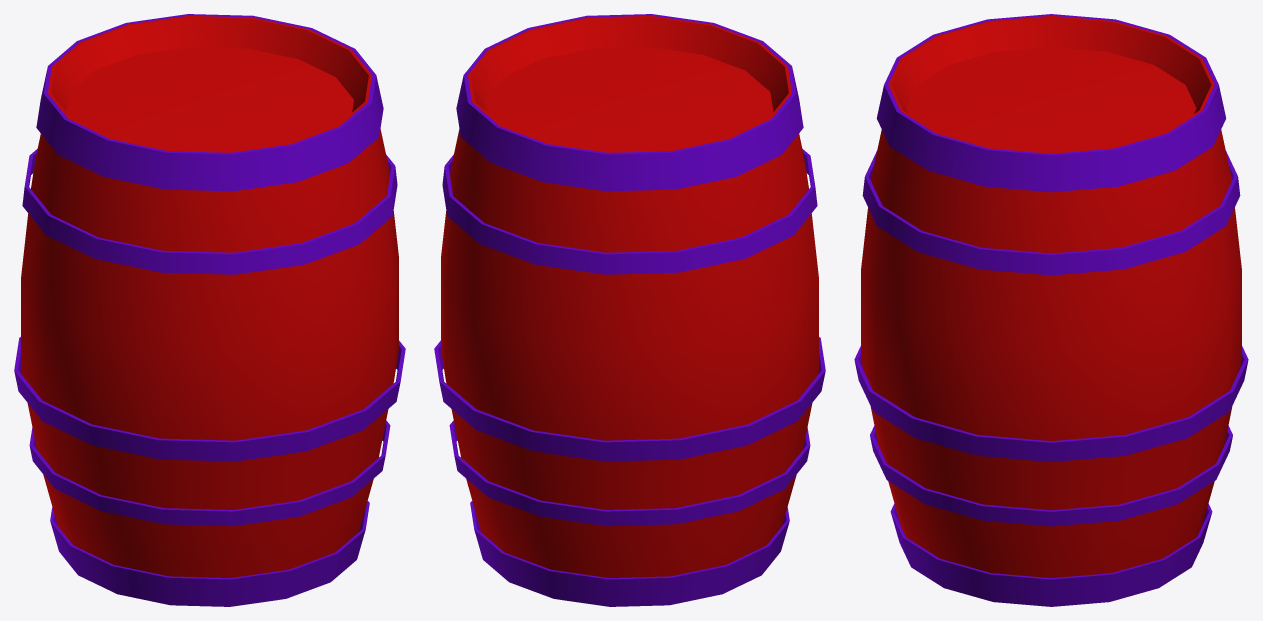
Rendered from SM_barrel.fbx.
The picture shows the model from 3 angles, left to right: view 1: azimuth 30°, elevation 25°; view 2: azimuth 150°, elevation 25°; view 3: azimuth 270°, elevation 25°; orthographic projection.
Visible parts, largest first — view 1: Cylinder; view 2: Cylinder; view 3: Cylinder.
Part boxes in pixels (x1=…): Cylinder: x1=14, y1=14, x2=405, y2=606; Cylinder: x1=434, y1=14, x2=825, y2=606; Cylinder: x1=854, y1=14, x2=1248, y2=606.
Size of the model in its own units: 82.14 by 105 by 82.14.
